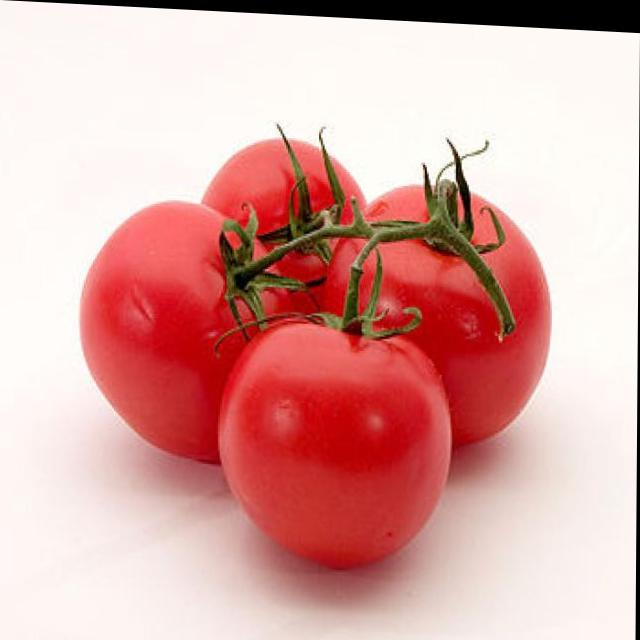kirmizi: (87, 100, 551, 564)
